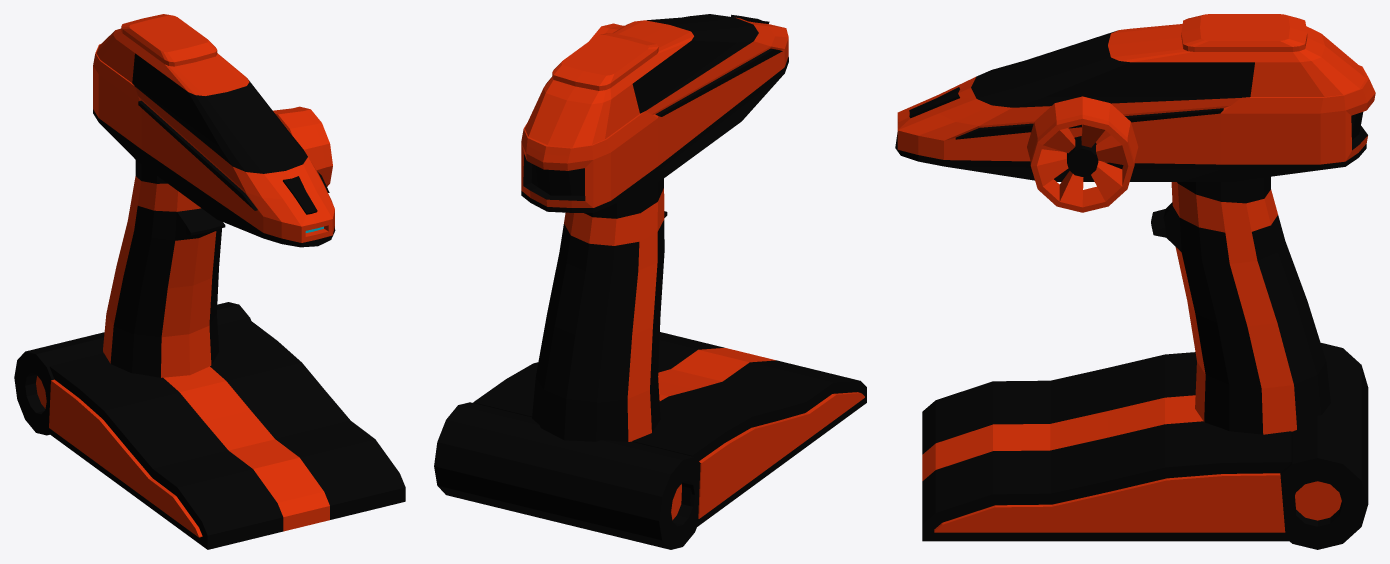
The model's file is Laserturm.fbx.
3 renders of one model, left to right at view 1: azimuth 30°, elevation 25°; view 2: azimuth 150°, elevation 25°; view 3: azimuth 270°, elevation 25°, orthographic. The views are drawn at different scales.
Visible parts, largest first — view 1: Bottom, Top, Wheel; view 2: Bottom, Top; view 3: Bottom, Top, Wheel.
Boxes of the visible parts, left/top/right/bottom form: Bottom: left=14, top=160, right=405, bottom=549; Top: left=93, top=14, right=335, bottom=247; Wheel: left=273, top=106, right=332, bottom=186; Bottom: left=434, top=178, right=866, bottom=549; Top: left=521, top=14, right=788, bottom=212; Bottom: left=922, top=176, right=1368, bottom=549; Top: left=895, top=14, right=1375, bottom=181; Wheel: left=1027, top=96, right=1138, bottom=212.
Size of the model in its own units: 311 by 575 by 539.
